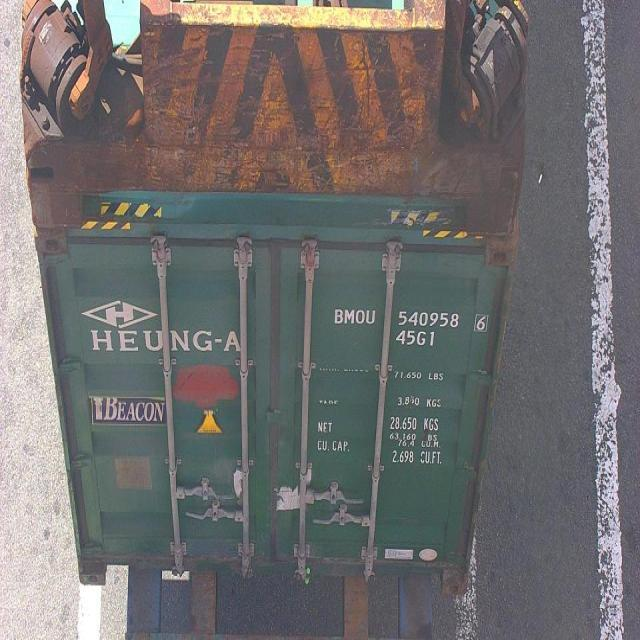ISO: (398, 329, 437, 346)
container_number: (332, 307, 491, 334)
